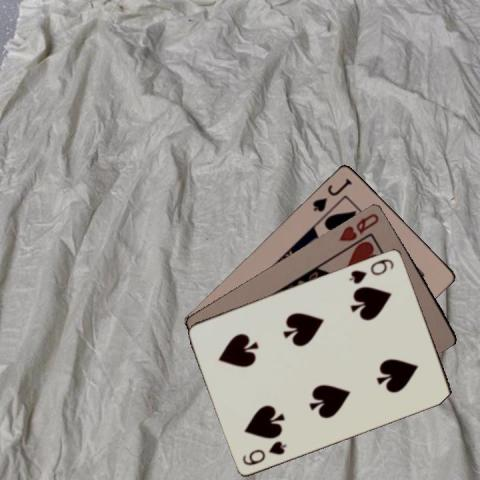6s: (346, 256, 396, 286), (239, 437, 288, 467)
Js: (309, 175, 354, 213)
Qh: (335, 210, 381, 243)
